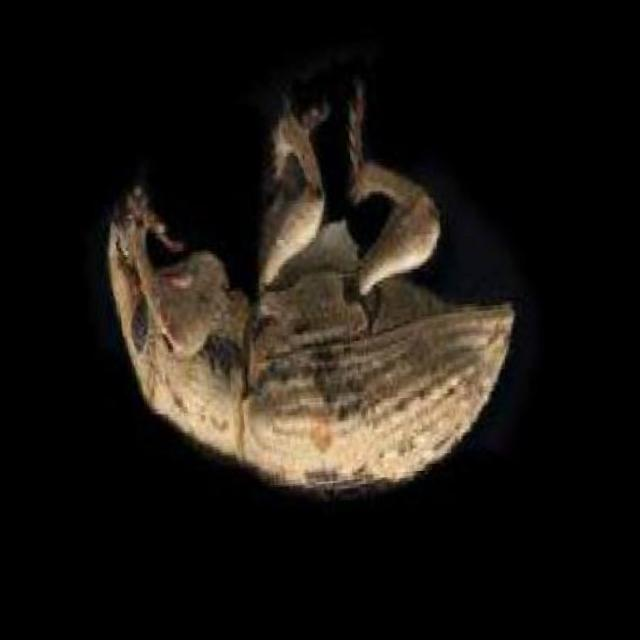rice-bug: (94, 58, 529, 514)
